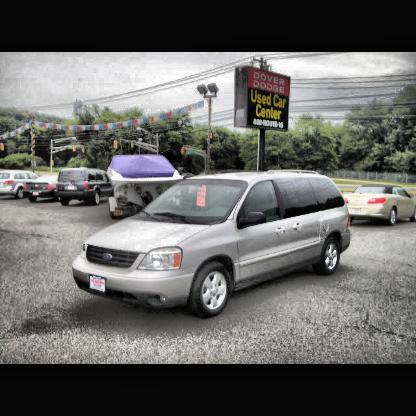Ford Freestar Minivan 2007: (77, 173, 356, 321)
